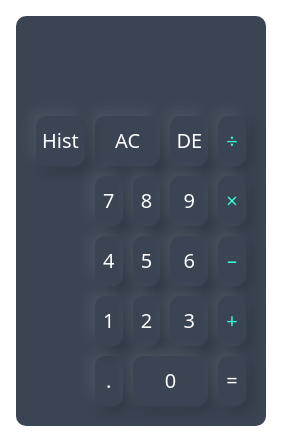
Calculator Component Tests › TC07 - Multiplication Operation
The width and height of the screenshot is (286, 443).
Step 1. Click the button "3" → x=189, y=321, box [170,296,208,346]
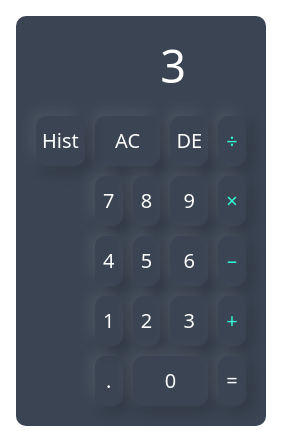
Step 2. Click the button "×" → x=232, y=201, box [218,176,246,226]
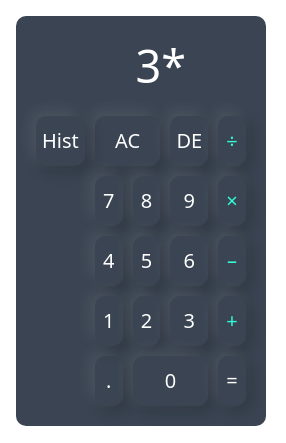
Step 3. Click the button "4" → x=109, y=261, box [95,236,123,286]
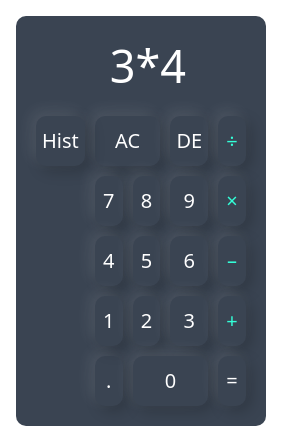
Step 4. Click the button "=" → x=232, y=381, box [218,356,246,406]
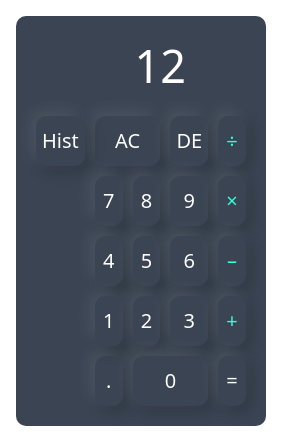
Expected: the field with test id "calculator-display" holds "12", [36,36,206,96]
